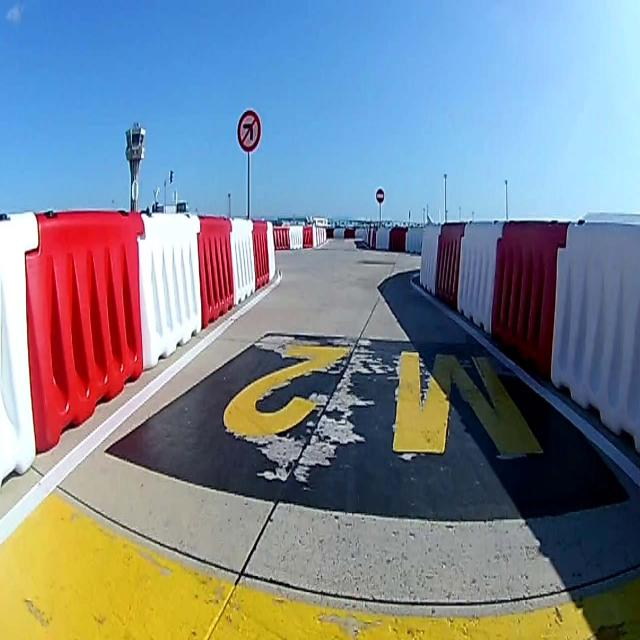soladonulmez: (237, 110, 261, 150)
